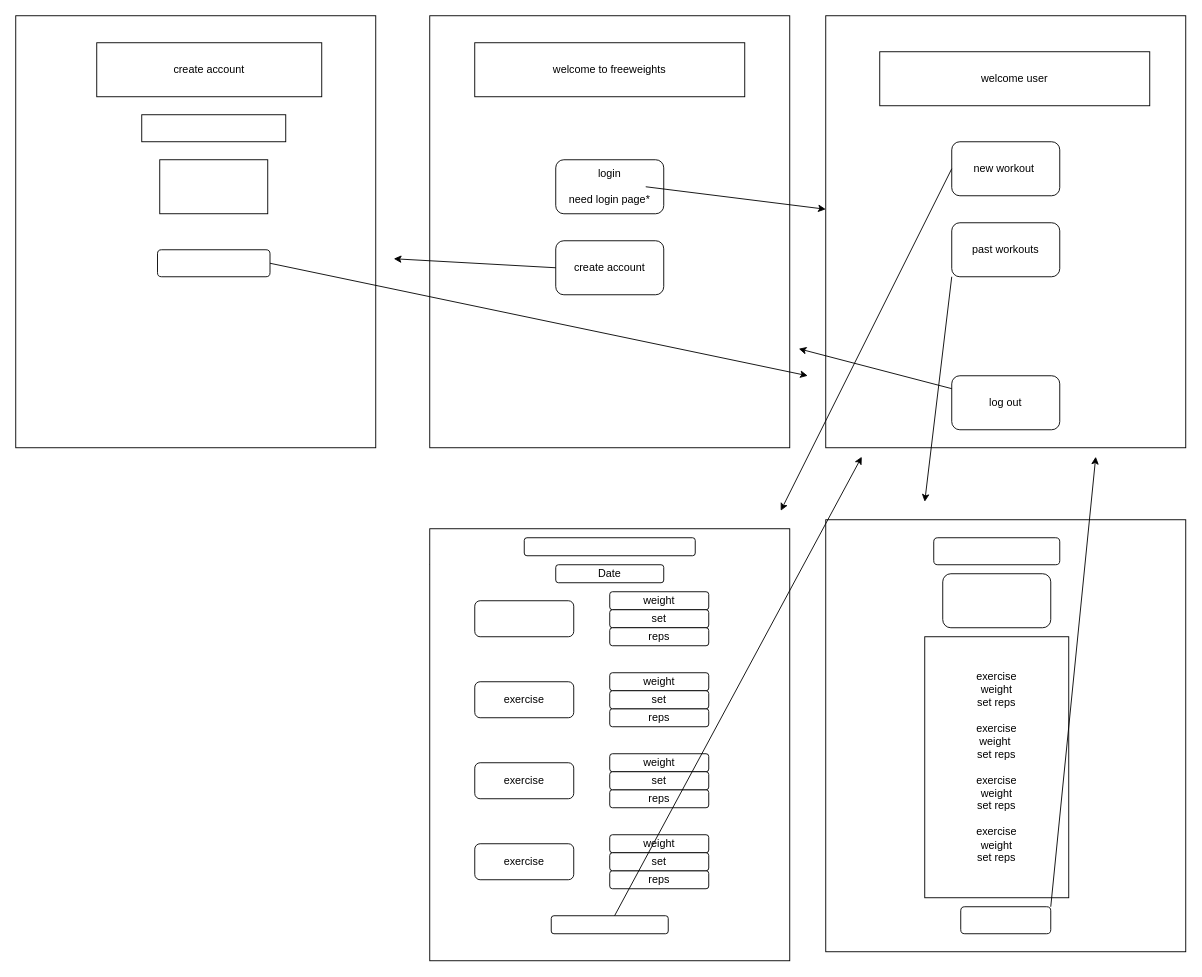
Some shapes in this 1202 by 977 pixel diagram are drawn without their labels. Each missing label, with the centre of its shape:
create: point 213,263
exercise 1: point 524,618
finsihed: point 609,924
history: point 996,551
home: point 1005,920
password: point 213,186
select workout dropdown: point 996,600
user name: point 213,128
workout name: point 609,546
